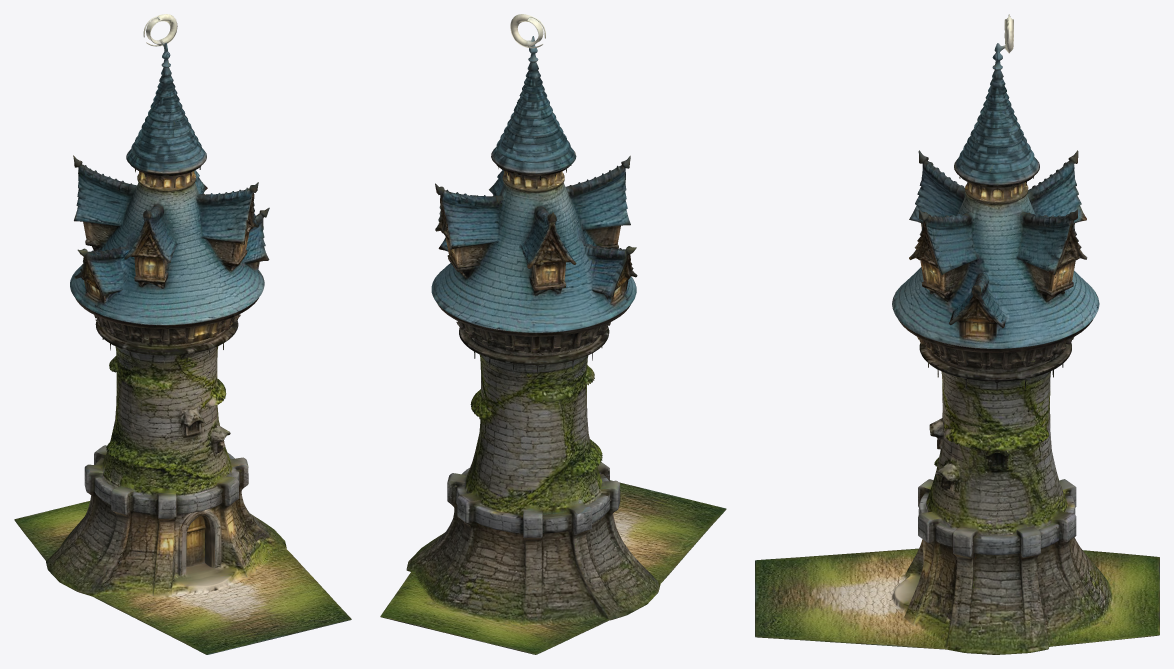
File: mage-tower.glb
3 renders of one model, left to right at view 1: azimuth 30°, elevation 25°; view 2: azimuth 150°, elevation 25°; view 3: azimuth 270°, elevation 25°, orthographic. The views are drawn at different scales.
Parts seen in each view (by area): view 1: node_0; view 2: node_0; view 3: node_0.
Part boxes in pixels (x1,y1,x2,y2): node_0: (14,14,351,654); node_0: (380,14,726,654); node_0: (755,14,1159,654).
Bounding box in the file's own units: 0.4121 × 0.9847 × 0.6213.
Materials: 1 (1 with a texture image).
